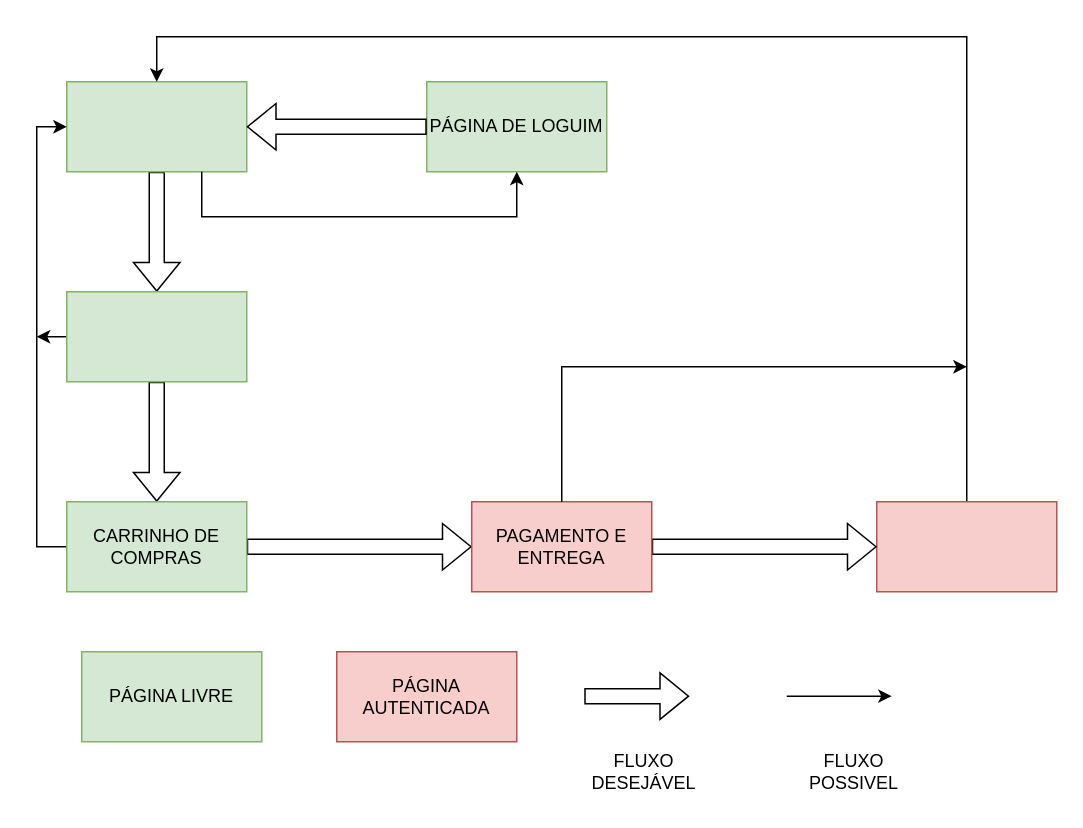
Image size: 1083x828. Some labels were removed from this diagram. The shapes that lost their labels are listed below. From the top down, each one's centre as x and y in pixels, then its label:
(x=156, y=126): HOME
(x=156, y=336): DETALHES DO LIVRO
(x=966, y=546): ACOMPANHEMENTO DE PEDIDOS
